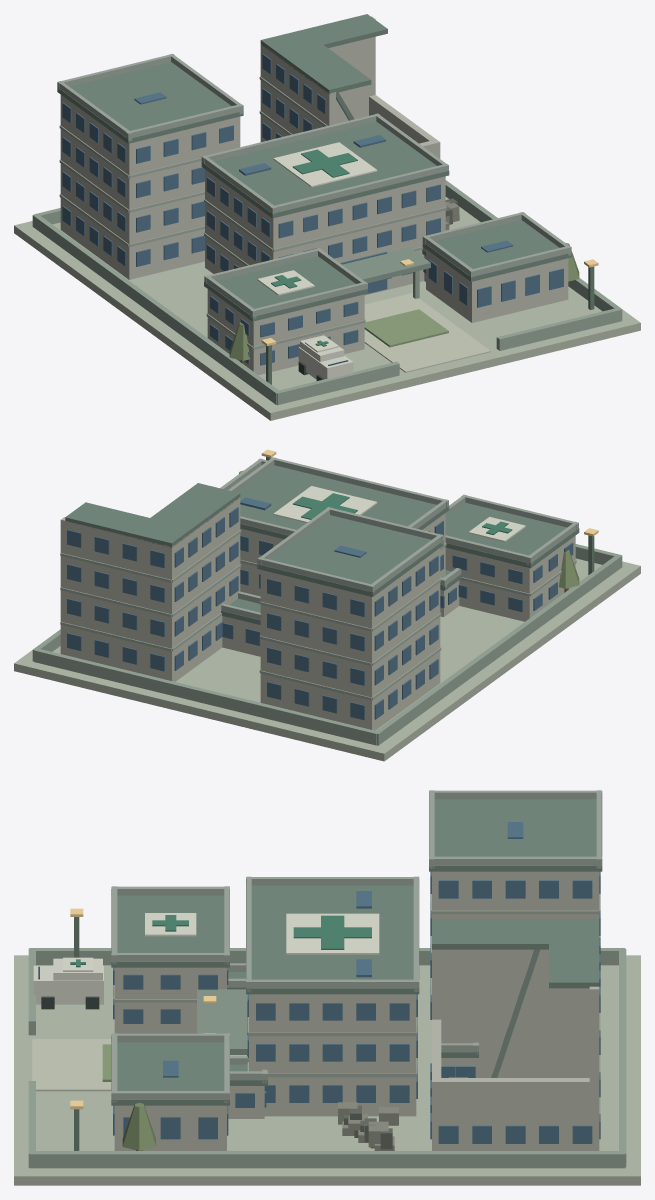
Rendered from hospital-ruined.glb.
3 views of the same model, one above another, from view 1: azimuth 30°, elevation 25°; view 2: azimuth 150°, elevation 25°; view 3: azimuth 270°, elevation 25° (orthographic). The views are drawn at different scales.
Parts seen in each view (by area): view 1: hospital-campus, hospital-west-ward, hospital-main, hospital-east-ward, hospital-emergency, hospital-services, hospital-west-ward-windows, hospital-main-windows, hospital-main-sign, hospital-entrance, hospital-emergency-windows, hospital-ambulance (+5 smaller); view 2: hospital-west-ward, hospital-campus, hospital-east-ward, hospital-emergency, hospital-main, hospital-west-ward-windows, hospital-east-ward-windows, hospital-main-sign, hospital-rear-link, hospital-emergency-windows, hospital-emergency-sign, hospital-front-link-west (+3 smaller); view 3: hospital-campus, hospital-east-ward, hospital-main, hospital-west-ward, hospital-emergency, hospital-services, hospital-main-windows, hospital-main-sign, hospital-ambulance, hospital-entrance, hospital-east-ward-windows, hospital-west-ward-windows (+8 smaller).
Boxes of the visible parts, x1,y1,x2,y2 form: hospital-campus: (14,180,640,420); hospital-west-ward: (57,53,243,279); hospital-main: (201,113,449,295); hospital-east-ward: (259,14,440,158); hospital-emergency: (204,248,367,375); hospital-services: (422,212,571,322); hospital-west-ward-windows: (62,102,233,266); hospital-main-windows: (206,177,440,278); hospital-main-sign: (273,142,377,187); hospital-entrance: (342,247,430,298); hospital-emergency-windows: (210,296,358,365); hospital-ambulance: (298,335,353,380); hospital-west-ward: (257,507,443,730); hospital-campus: (14,470,640,761); hospital-east-ward: (60,483,241,681); hospital-emergency: (445,494,579,621); hospital-main: (228,457,449,596); hospital-west-ward-windows: (267,556,438,720); hospital-east-ward-windows: (67,507,238,671); hospital-main-sign: (273,486,377,522); hospital-rear-link: (221,591,260,656); hospital-emergency-windows: (452,542,573,612); hospital-emergency-sign: (468,516,525,542); hospital-front-link-west: (440,568,461,616); hospital-campus: (14,948,640,1185); hospital-east-ward: (432,919,600,1150); hospital-main: (246,876,419,1116); hospital-west-ward: (429,790,602,997); hospital-emergency: (111,886,229,1033); hospital-services: (111,1033,229,1150); hospital-main-windows: (247,994,417,1102); hospital-main-sign: (286,913,379,954); hospital-ambulance: (33,957,103,1009); hospital-entrance: (197,989,247,1054); hospital-east-ward-windows: (430,937,600,1143); hospital-west-ward-windows: (430,871,600,1019).
Bounding box in the file's own units: 10 × 4.03 × 12.
